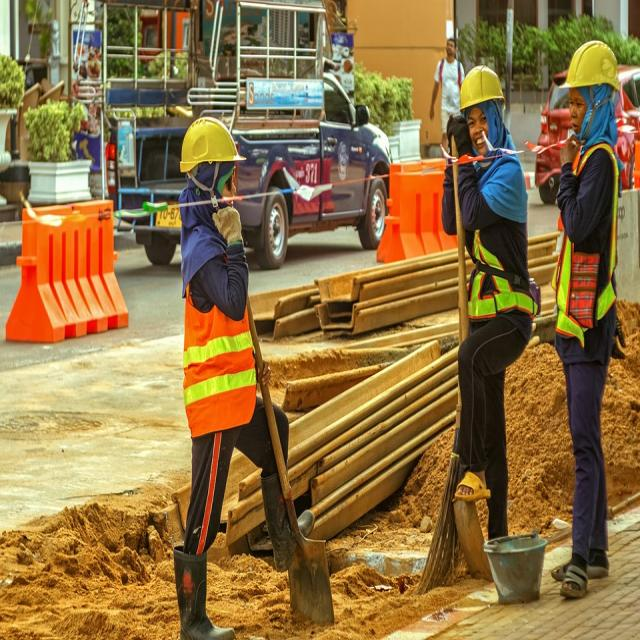Boots: (164, 522, 244, 640), (249, 464, 321, 570)
Gloves: (212, 202, 245, 248), (443, 108, 471, 159)
Hard Hat: (179, 112, 245, 174), (557, 34, 623, 93), (459, 63, 508, 116)
Reflective Vest: (178, 263, 264, 444), (554, 142, 623, 350), (454, 228, 544, 329)
Safety Glasses: (216, 163, 239, 193)
